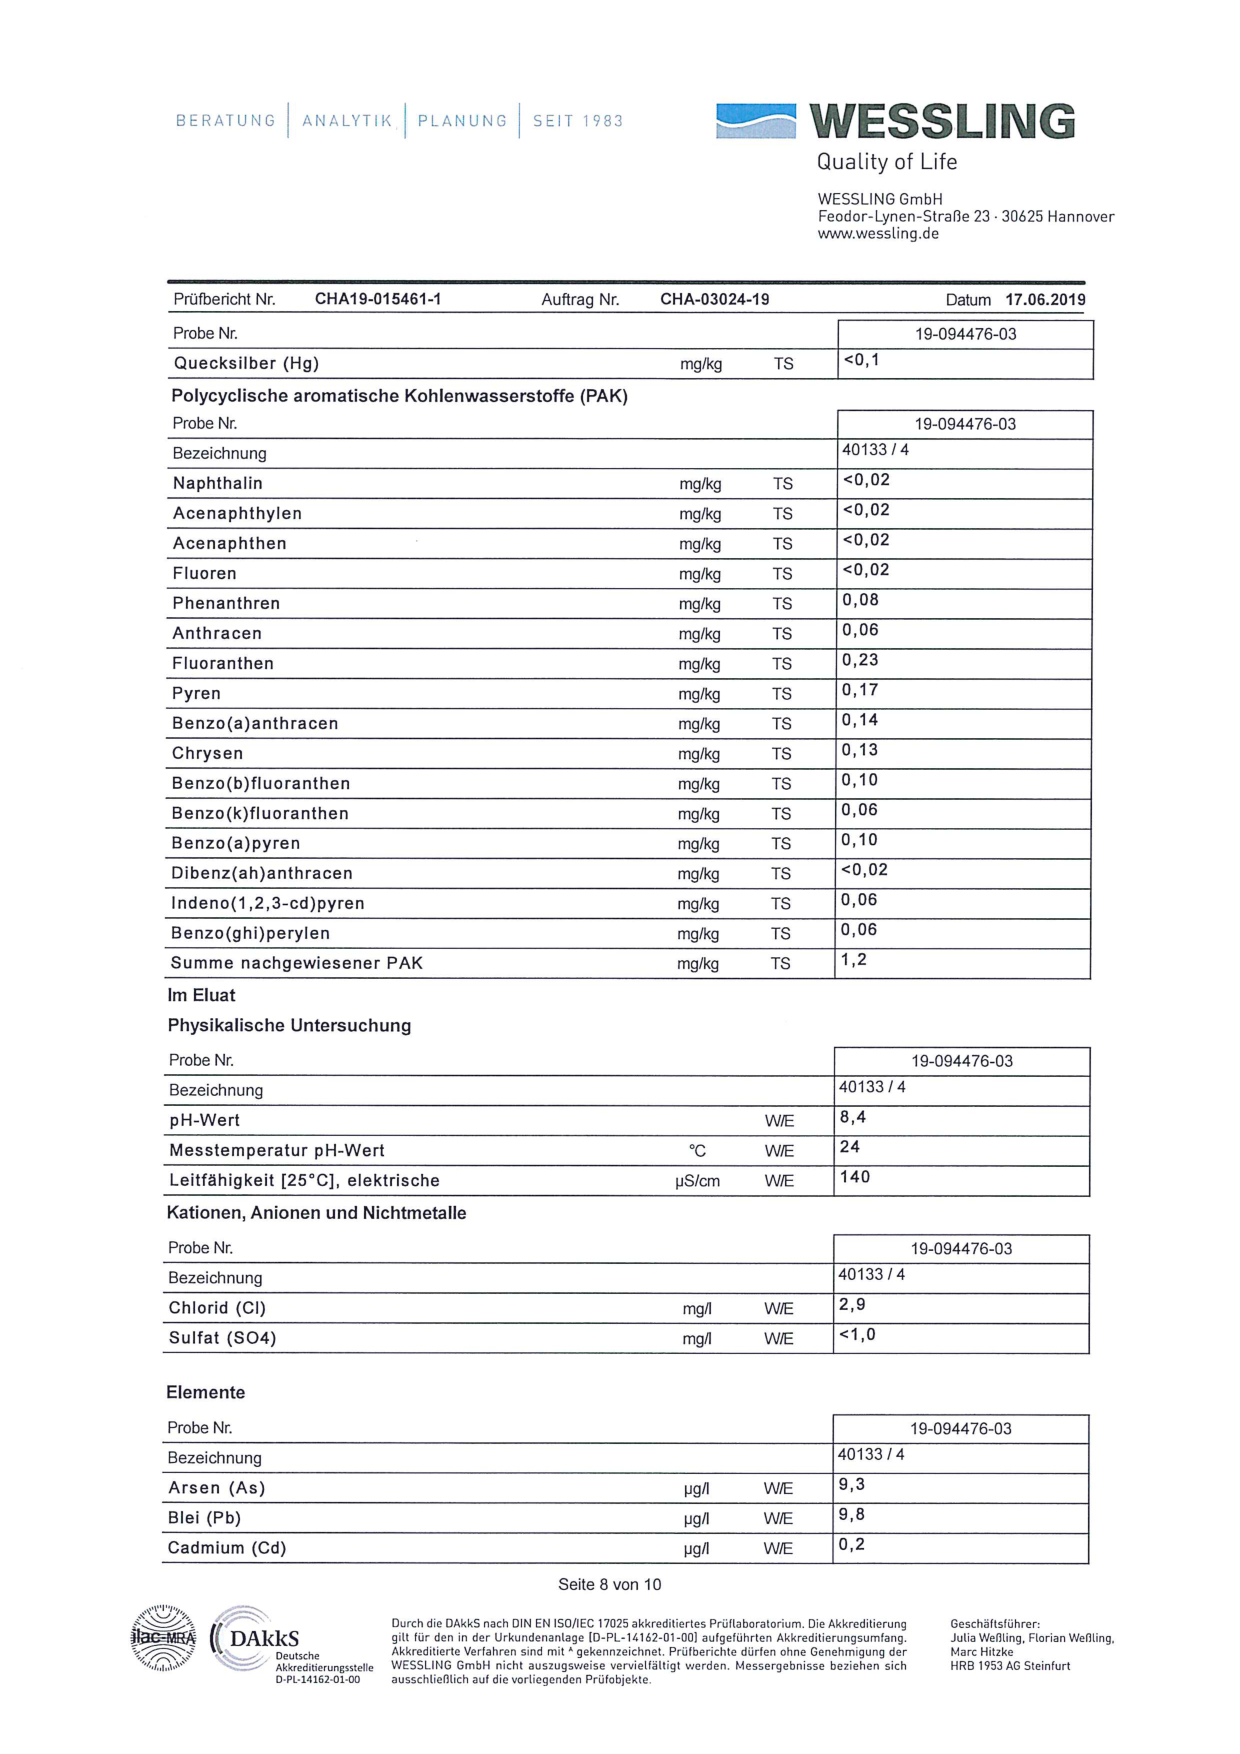table: (166, 405, 1110, 986), (156, 1406, 1104, 1574), (161, 1037, 1096, 1206), (160, 1231, 1115, 1373), (160, 315, 1103, 382)
